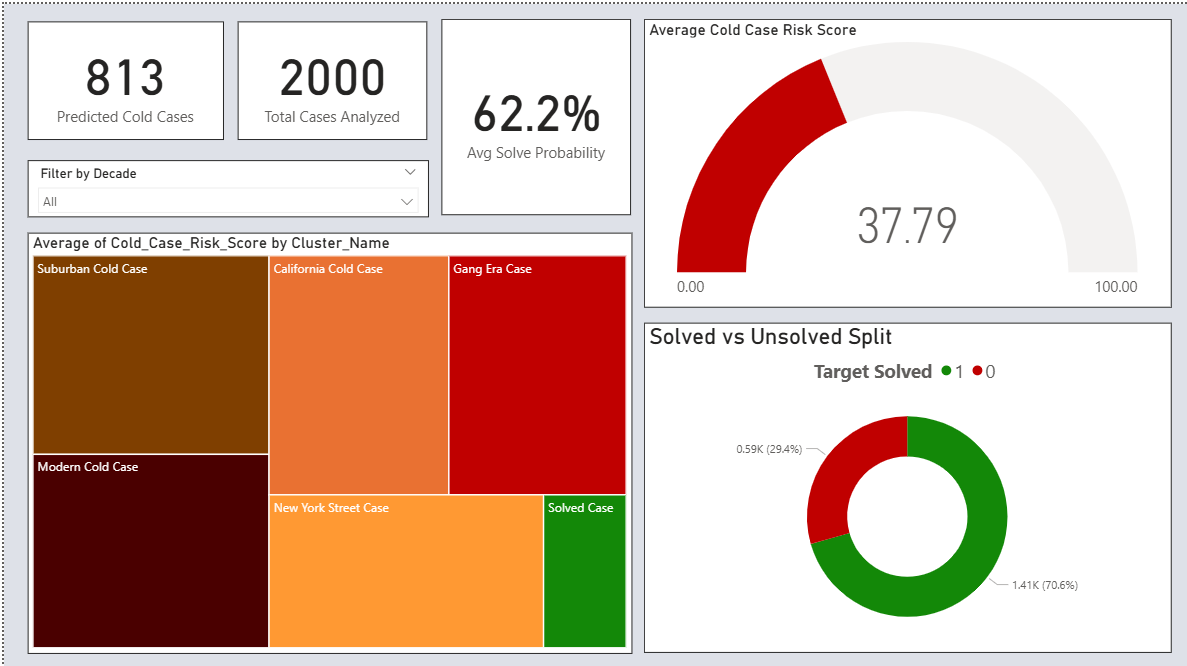

What the dashboard file says about the page in this screenshot:
{"tool":"powerbi","page":{"name":"🔴 Executive Risk Overview","canvas":[1280,720],"ordinal":0},"visuals":[{"type":"gauge","fields":{"Y":["Avg(final_portfolio_export.Cold_Case_Risk_Score)"]},"box":[691.7,16.7,570,311.7],"z":0},{"type":"card","fields":{"Values":["CountNonNull(final_portfolio_export.State)"]},"box":[253.3,18.3,205,128.3],"z":1000},{"type":"card","fields":{"Values":["Avg(final_portfolio_export.Solve_Probability)"]},"box":[473.3,16.7,205,211.7],"z":2000},{"type":"card","fields":{"Values":["final_portfolio_export.Predicted Cold Cases"]},"box":[25,18.3,211.7,128.3],"z":3000},{"type":"treemap","fields":{"Values":["Avg(final_portfolio_export.Cold_Case_Risk_Score)"],"Group":["final_portfolio_export.Cluster_Name"]},"box":[25,246.7,653.3,455],"z":4000},{"type":"donutChart","title":"Solved vs Unsolved Split","fields":{"Category":["final_portfolio_export.Target_Solved"],"Y":["CountNonNull(final_portfolio_export.Cold_Case_Risk_Score)"]},"box":[691.7,345,570,356.7],"z":5000},{"type":"slicer","fields":{"Values":["final_portfolio_export.Decade"]},"box":[25,168.3,433.3,61.7],"z":6000}]}

Visuals, with their boxes in screenshot pixels (x1, y1, x2, y2), scaled from the page's 1280x720 canvas onto the 1187x666 screenshot:
gauge - Avg(final_portfolio_export.Cold_Case_Risk_Score): [641, 15, 1170, 304]
card - CountNonNull(final_portfolio_export.State): [235, 17, 425, 136]
card - Avg(final_portfolio_export.Solve_Probability): [439, 15, 629, 211]
card - final_portfolio_export.Predicted Cold Cases: [23, 17, 220, 136]
treemap - Avg(final_portfolio_export.Cold_Case_Risk_Score) x final_portfolio_export.Cluster_Name: [23, 228, 629, 649]
"Solved vs Unsolved Split" donutChart: [641, 319, 1170, 649]
slicer - final_portfolio_export.Decade: [23, 156, 425, 213]
